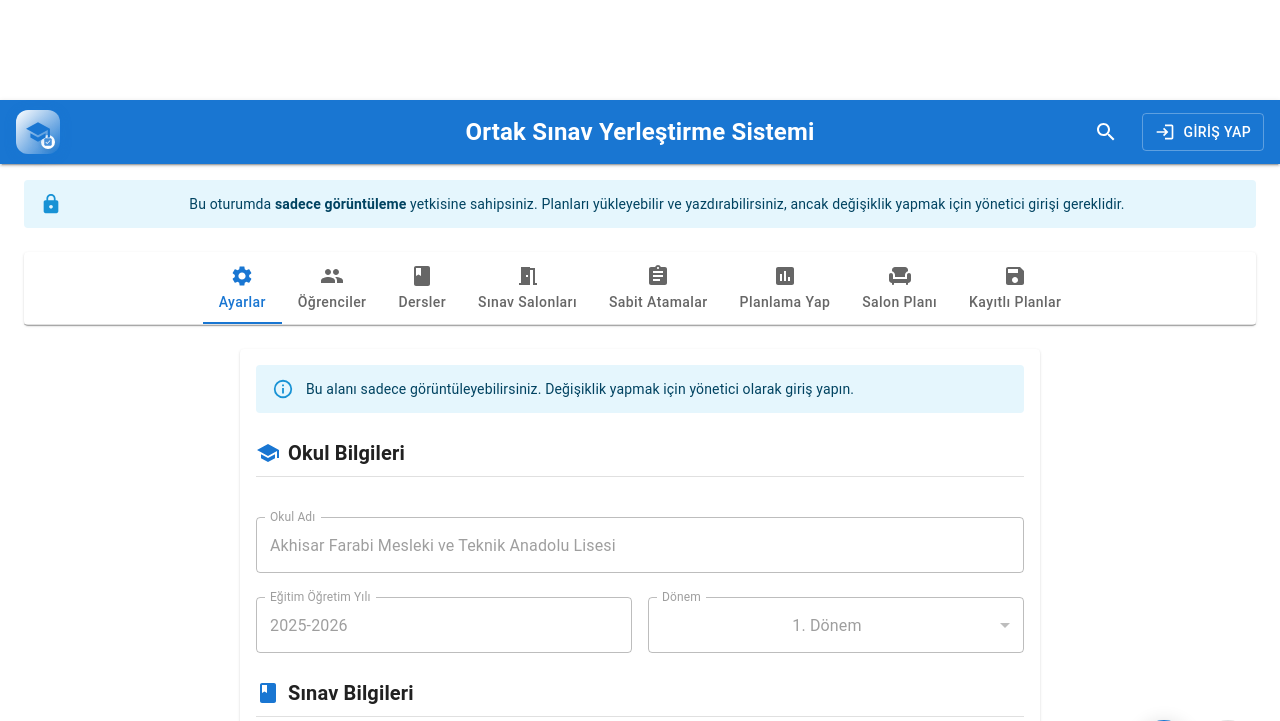
Test: AnaSayfa Component › should switch between tabs correctly
The image size is (1280, 721).
Click the tab "Öğrenciler".
click(332, 288)  # box [282,252,382,324]
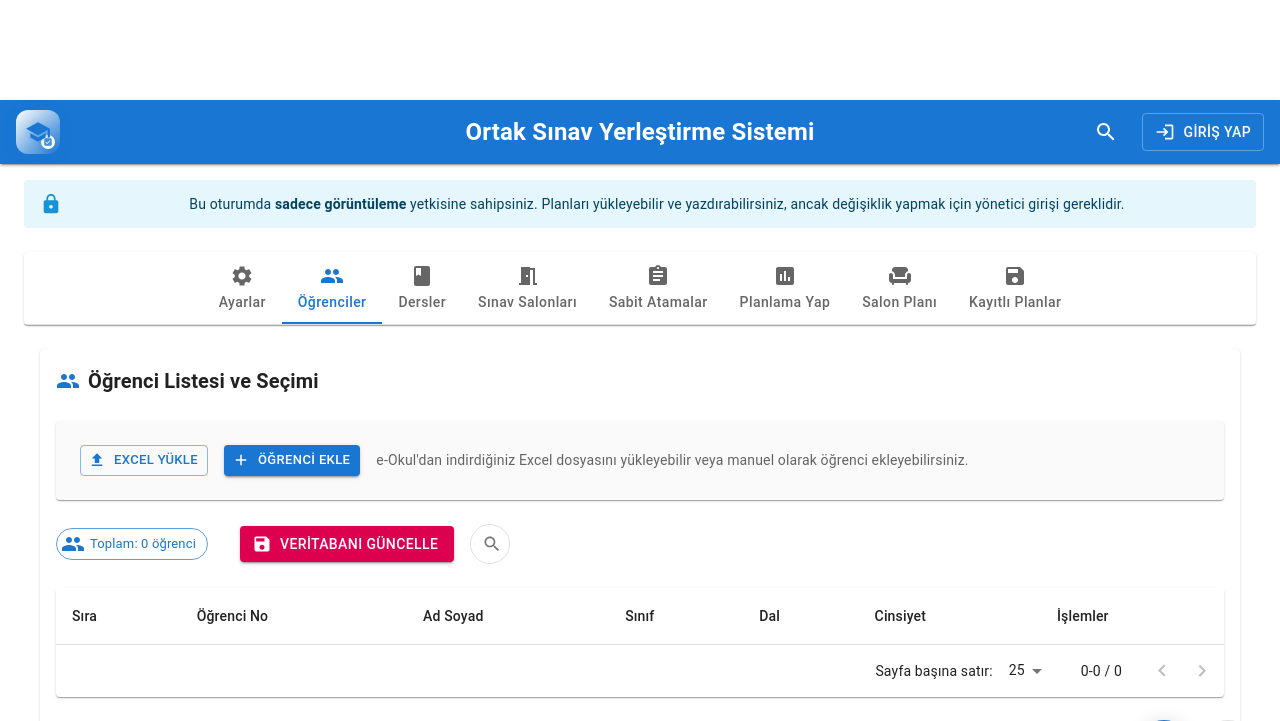
Expected: the heading "Öğrenci Listesi ve Seçimi" is shown, [88,365,319,397]
